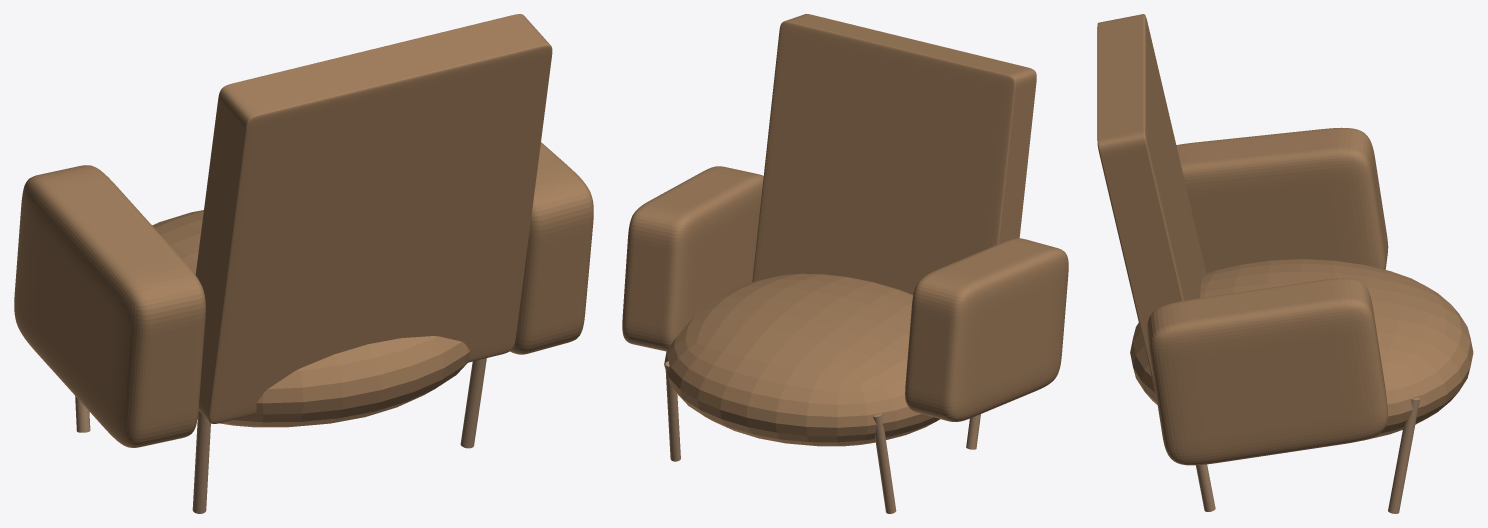
3 views of the same model, side by side, from view 1: azimuth 30°, elevation 25°; view 2: azimuth 150°, elevation 25°; view 3: azimuth 270°, elevation 25° (orthographic). The views are drawn at different scales.
Visible parts, largest first — view 1: Backrest, Left_Armrest, Seat_Cushion, Right_Armrest, Back_Left_Leg, Back_Right_Leg; view 2: Backrest, Seat_Cushion, Left_Armrest, Right_Armrest, Front_Left_Leg, Front_Right_Leg; view 3: Right_Armrest, Left_Armrest, Backrest, Seat_Cushion, Front_Right_Leg, Back_Right_Leg.
Part boxes in pixels (box(x1,y1,x2,y2)): Backrest: box(195, 14, 552, 423); Left_Armrest: box(14, 165, 205, 447); Seat_Cushion: box(152, 210, 469, 427); Right_Armrest: box(510, 142, 593, 354); Back_Left_Leg: box(192, 410, 210, 513); Back_Right_Leg: box(460, 358, 486, 448); Backrest: box(752, 14, 1036, 294); Seat_Cushion: box(664, 273, 939, 446); Left_Armrest: box(905, 238, 1068, 421); Right_Armrest: box(622, 166, 763, 351); Front_Left_Leg: box(873, 413, 896, 513); Front_Right_Leg: box(665, 361, 680, 461); Right_Armrest: box(1147, 278, 1388, 465); Left_Armrest: box(1176, 127, 1388, 273); Backrest: box(1097, 14, 1206, 394); Seat_Cushion: box(1130, 259, 1473, 440); Front_Right_Leg: box(1388, 397, 1419, 513); Back_Right_Leg: box(1196, 464, 1215, 511).
Bounding box in the file's own units: 1.96 × 1.86 × 1.65.
